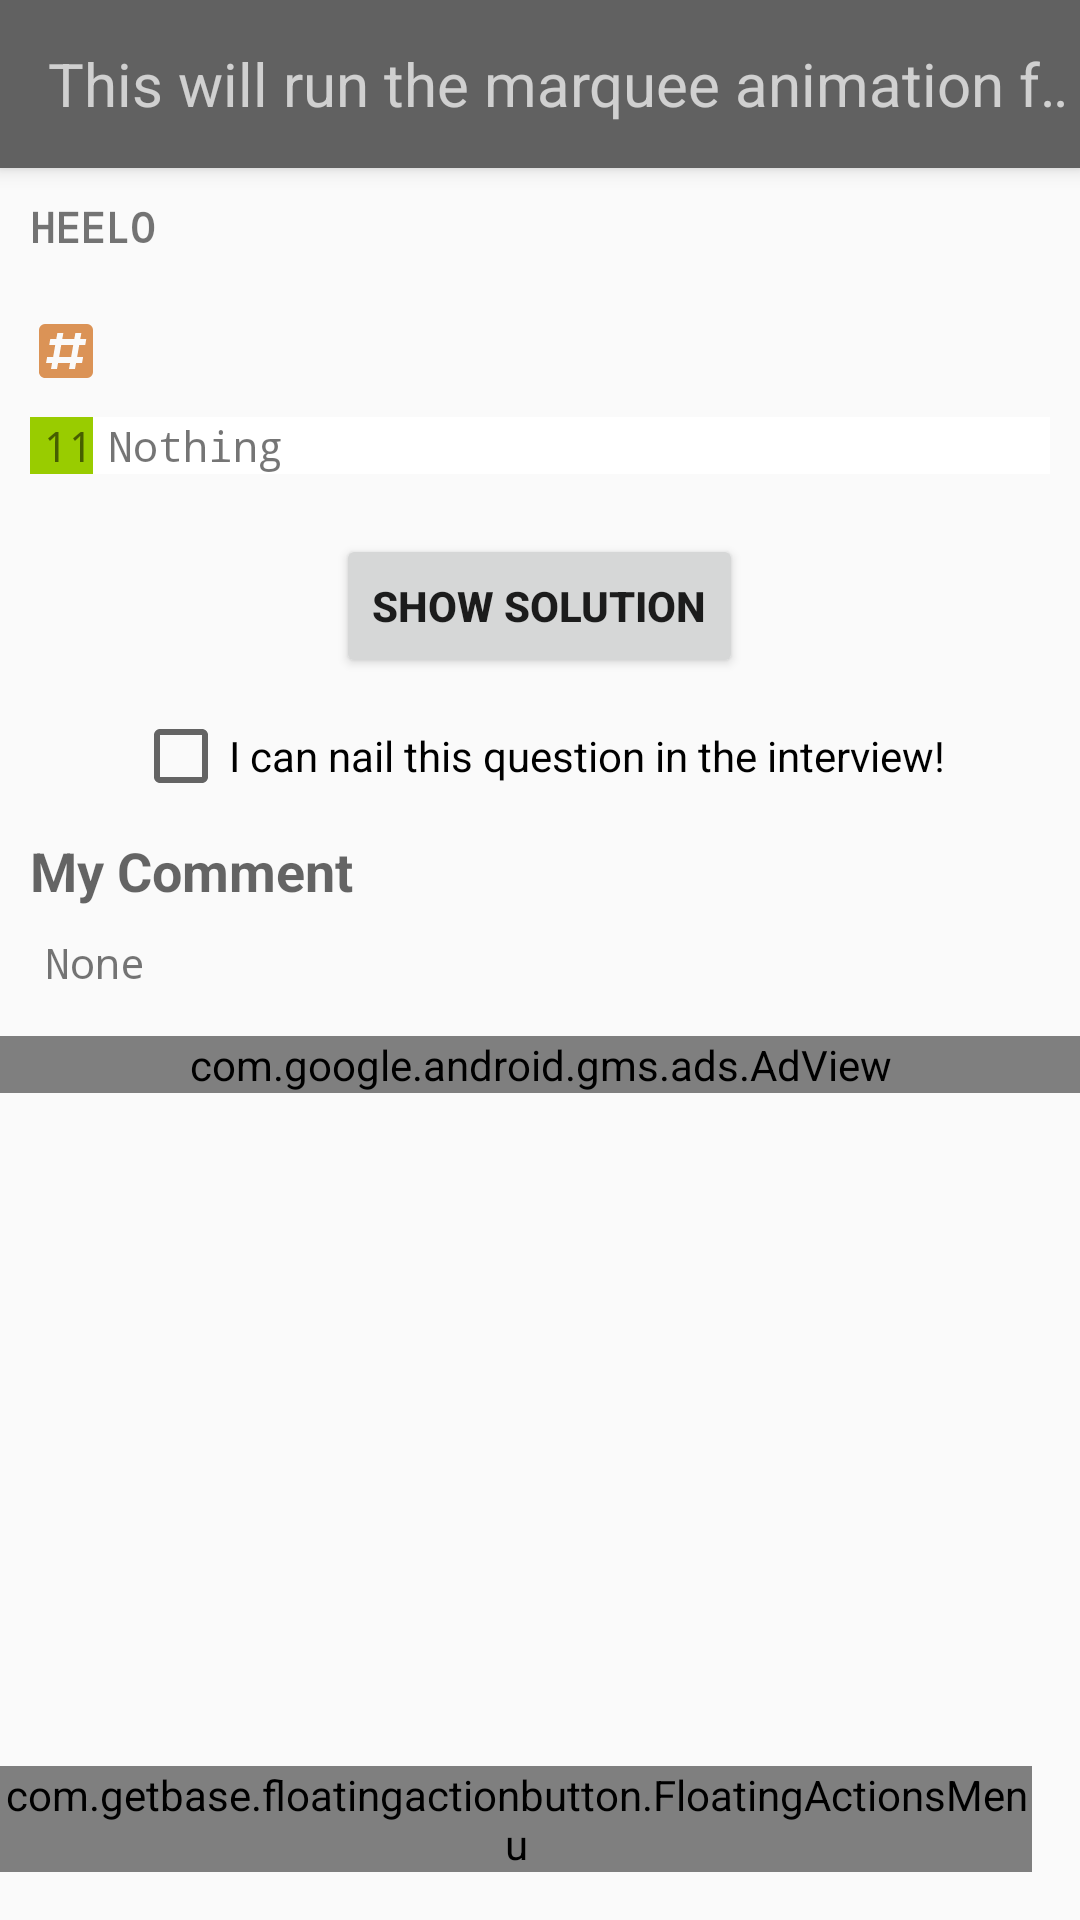

Screen size 1080x1920. Icon name, then its box in pixels as bbox=(x1, y1, x2, y2):
pound box: bbox=(39, 324, 93, 378)
